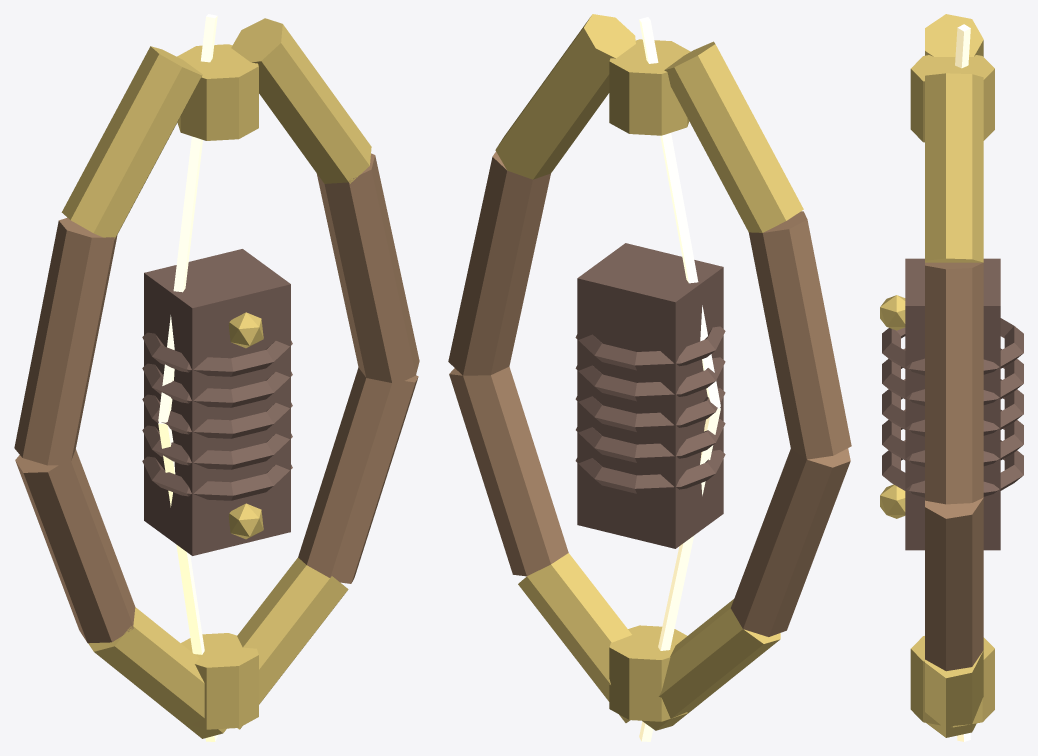
File: golden_bow.glb
The picture shows the model from 3 angles, left to right: view 1: azimuth 30°, elevation 25°; view 2: azimuth 150°, elevation 25°; view 3: azimuth 270°, elevation 25°; orthographic projection.
Parts seen in each view (by area): view 1: WrappedRiser.001, LeftLimb_2.001, RightLimb_2.001, RightLimb_1.001, LeftLimb_3.001, LeftLimb_1.001, RightLimb_3.001, RightLimb_0.001, LeftLimb_0.001, TipCap_0.001, TipCap_-0.001, StringRight.001 (+8 smaller); view 2: WrappedRiser.001, LeftLimb_2.001, RightLimb_2.001, RightLimb_1.001, LeftLimb_3.001, LeftLimb_1.001, RightLimb_3.001, RightLimb_0.001, LeftLimb_0.001, TipCap_0.001, TipCap_-0.001, StringRight.001 (+6 smaller); view 3: RightLimb_2.001, RightLimb_3.001, RightLimb_1.001, WrappedRiser.001, RightLimb_0.001, TipCap_0.001, TipCap_-0.001, GripWrap_4.018, LeftLimb_3.001, GripWrap_0.018, GripWrap_2.018, GripWrap_3.018 (+4 smaller).
Part boxes in pixels (bbox=[...]): WrappedRiser.001: bbox=[144, 249, 290, 555]; LeftLimb_2.001: bbox=[14, 217, 117, 465]; RightLimb_2.001: bbox=[316, 153, 419, 382]; RightLimb_1.001: bbox=[298, 367, 418, 583]; LeftLimb_3.001: bbox=[61, 46, 202, 238]; LeftLimb_1.001: bbox=[15, 449, 135, 643]; RightLimb_3.001: bbox=[231, 18, 371, 183]; RightLimb_0.001: bbox=[237, 557, 348, 729]; LeftLimb_0.001: bbox=[88, 607, 226, 738]; TipCap_0.001: bbox=[177, 44, 258, 140]; TipCap_-0.001: bbox=[181, 633, 258, 729]; StringRight.001: bbox=[158, 14, 217, 422]; WrappedRiser.001: bbox=[577, 243, 723, 548]; LeftLimb_2.001: bbox=[748, 211, 851, 459]; RightLimb_2.001: bbox=[448, 151, 550, 375]; RightLimb_1.001: bbox=[449, 366, 568, 576]; LeftLimb_3.001: bbox=[664, 41, 803, 232]; LeftLimb_1.001: bbox=[730, 448, 850, 636]; RightLimb_3.001: bbox=[495, 14, 635, 179]; RightLimb_0.001: bbox=[518, 553, 631, 722]; LeftLimb_0.001: bbox=[642, 599, 780, 730]; TipCap_0.001: bbox=[609, 39, 690, 135]; TipCap_-0.001: bbox=[609, 625, 687, 721]; StringRight.001: bbox=[639, 17, 720, 407]; RightLimb_2.001: bbox=[925, 262, 983, 504]; RightLimb_3.001: bbox=[925, 73, 983, 262]; RightLimb_1.001: bbox=[925, 498, 983, 671]; WrappedRiser.001: bbox=[905, 258, 1000, 550]; RightLimb_0.001: bbox=[925, 650, 983, 737]; TipCap_0.001: bbox=[910, 55, 994, 142]; TipCap_-0.001: bbox=[910, 636, 994, 727]; GripWrap_4.018: bbox=[882, 318, 1023, 375]; LeftLimb_3.001: bbox=[925, 14, 983, 56]; GripWrap_0.018: bbox=[882, 440, 1023, 497]; GripWrap_2.018: bbox=[882, 379, 1023, 436]; GripWrap_3.018: bbox=[882, 348, 1023, 405].
Size of the model in its own units: 0.8049 by 1.4 by 0.2563.
